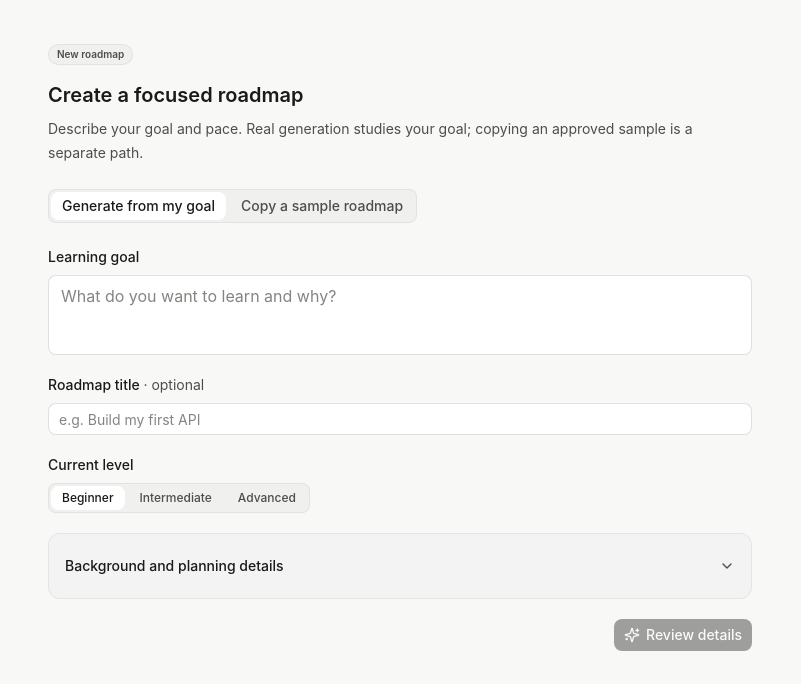
creates then starts once and switches to real server status
In the text box labelled "Learning goal": point(400, 315) [48, 275, 752, 355], type "Learn to build a small API"
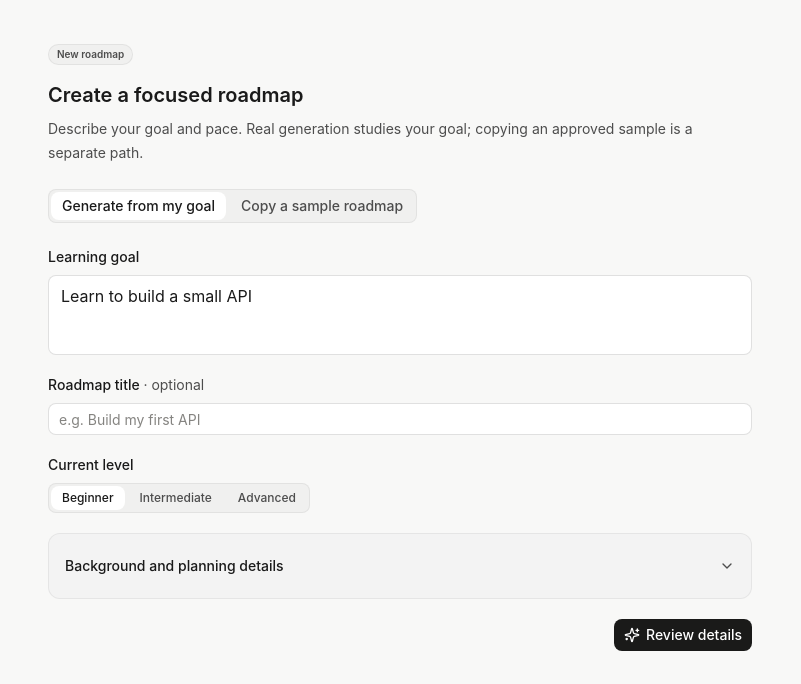
Click the button "Review details": point(683, 635) [614, 619, 752, 651]
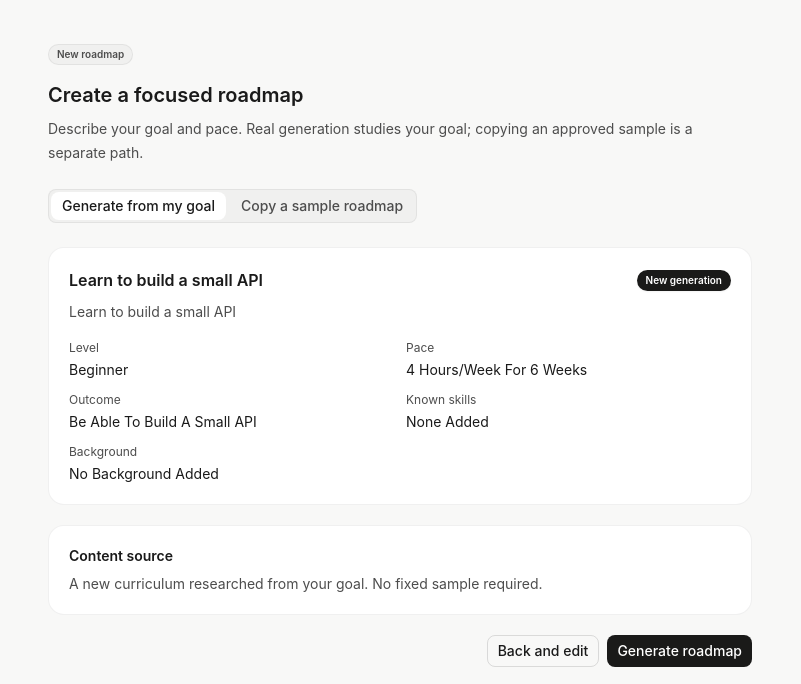
Click the button "Generate roadmap": point(680, 651) [607, 635, 752, 667]
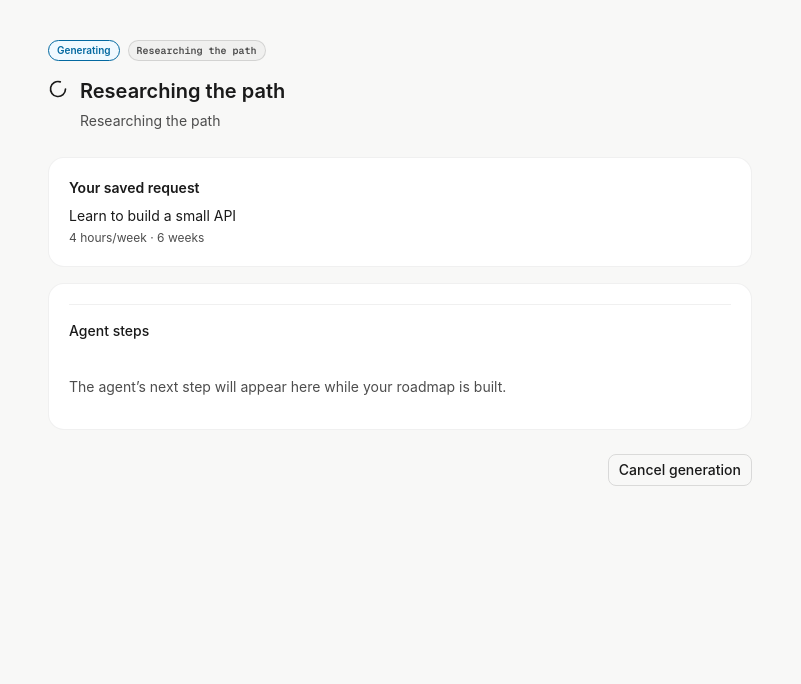
Expected: the element with test id "studio-job-progress" is shown
